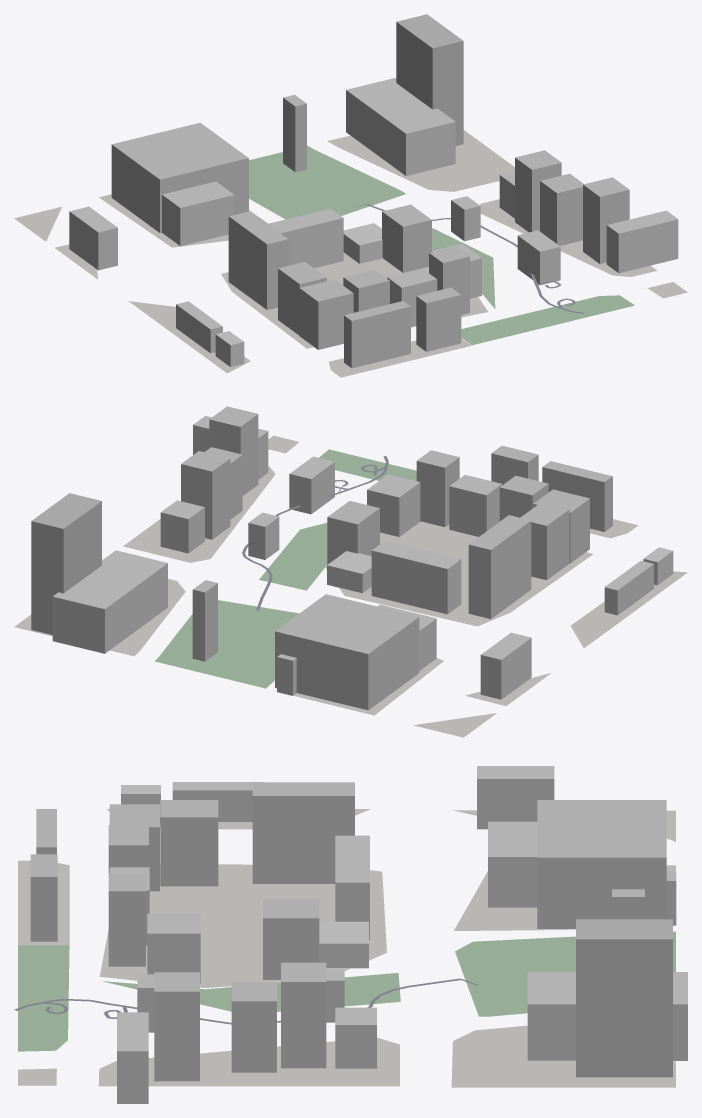
The model's file is 114_77_mid.glb.
3 renders of one model, top to bottom at view 1: azimuth 30°, elevation 25°; view 2: azimuth 150°, elevation 25°; view 3: azimuth 270°, elevation 25°, orthographic. The views are drawn at different scales.
Size of the model in its own units: 532 by 117 by 512.
